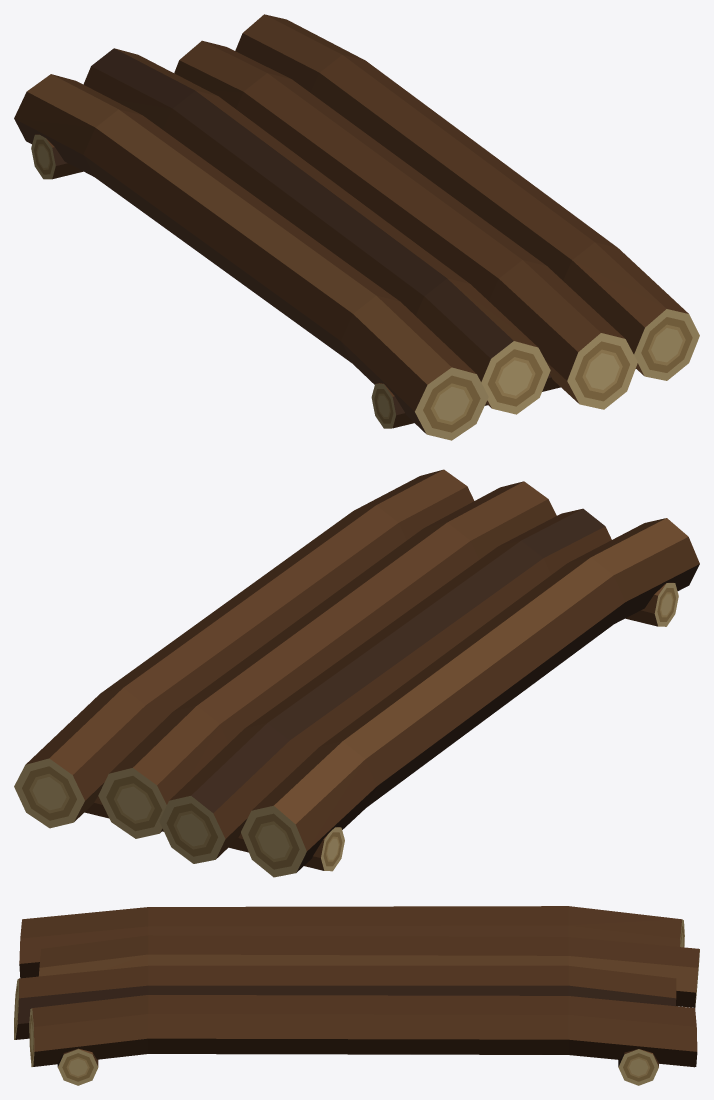
The model's file is log_bridge_3.glb.
3 views of the same model, one above another, from view 1: azimuth 30°, elevation 25°; view 2: azimuth 150°, elevation 25°; view 3: azimuth 270°, elevation 25° (orthographic). The views are drawn at different scales.
Visible parts, largest first — view 1: log_bridge_3; view 2: log_bridge_3; view 3: log_bridge_3.
Part boxes in pixels (left/top/right/bottom): log_bridge_3: left=14, top=14, right=699, bottom=440; log_bridge_3: left=14, top=469, right=699, bottom=877; log_bridge_3: left=14, top=906, right=699, bottom=1085.
Bounding box in the file's own units: 1.99 × 0.605 × 4.89.
